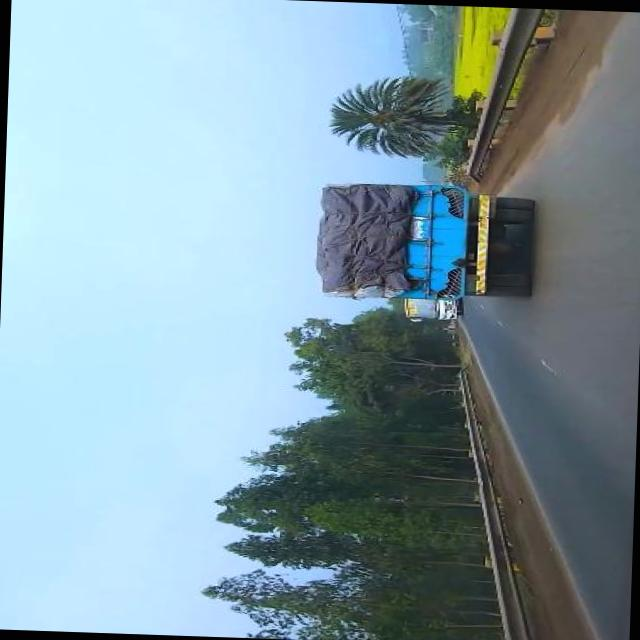bus: (398, 296, 466, 322)
truck: (310, 180, 534, 300)
